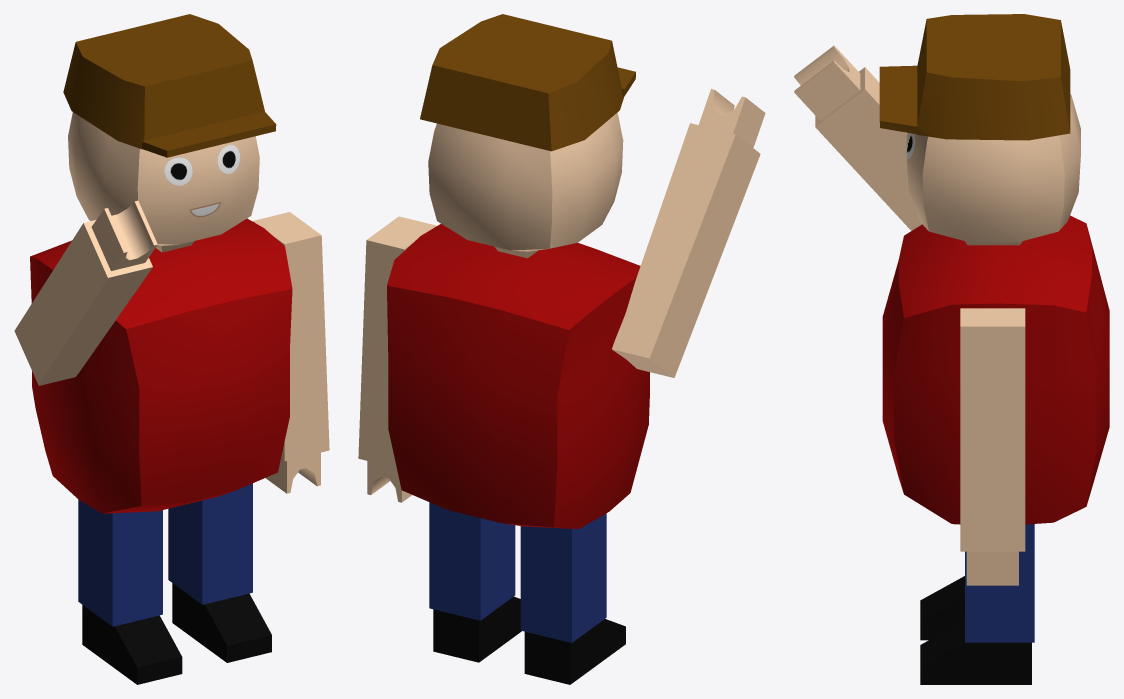
File: Doll.FBX
The picture shows the model from 3 angles, left to right: view 1: azimuth 30°, elevation 25°; view 2: azimuth 150°, elevation 25°; view 3: azimuth 270°, elevation 25°; orthographic projection.
Visible parts, largest first — view 1: doll; view 2: doll; view 3: doll.
Part boxes in pixels (x1,y1,x2,y2): doll: (14, 14, 329, 684); doll: (358, 14, 765, 684); doll: (794, 14, 1109, 684).
Size of the model in its own units: 7.7 by 14.92 by 7.06.
